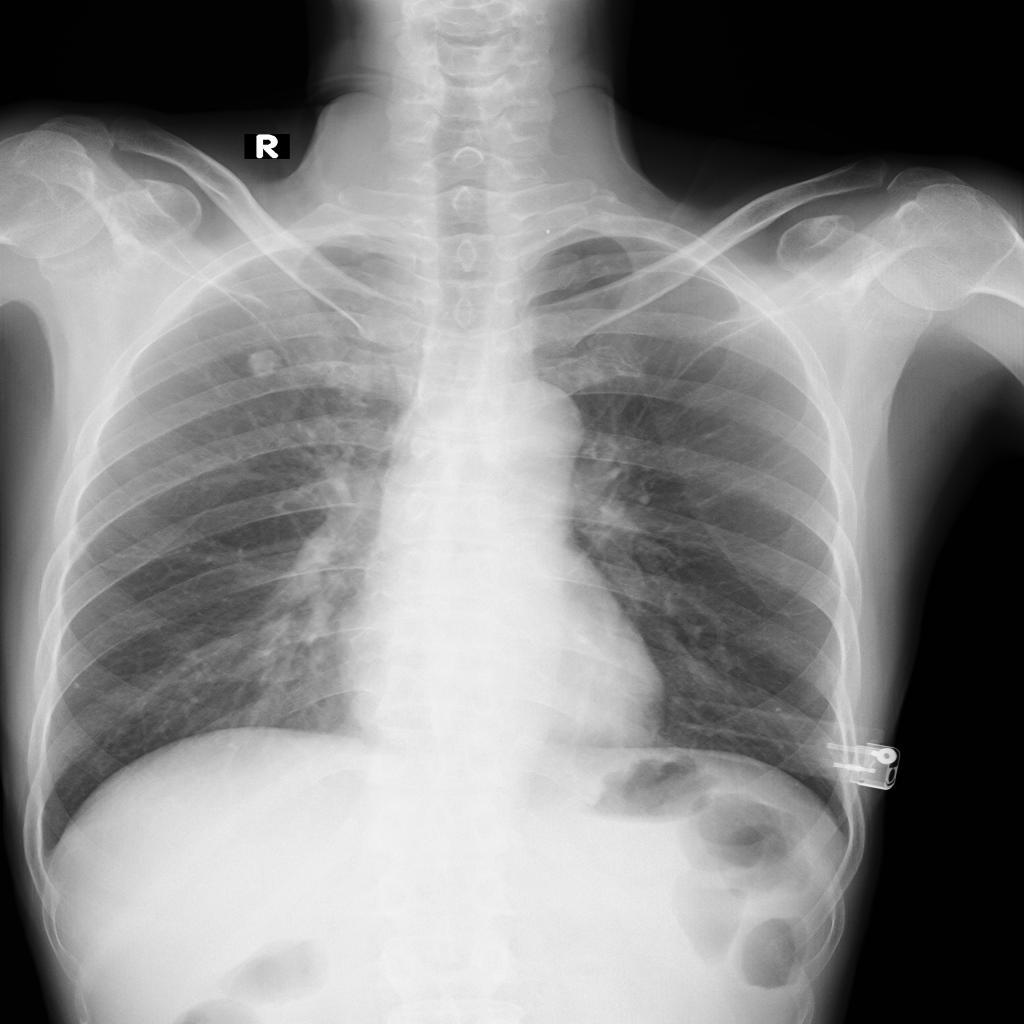Nodule: (248, 347, 282, 382)
